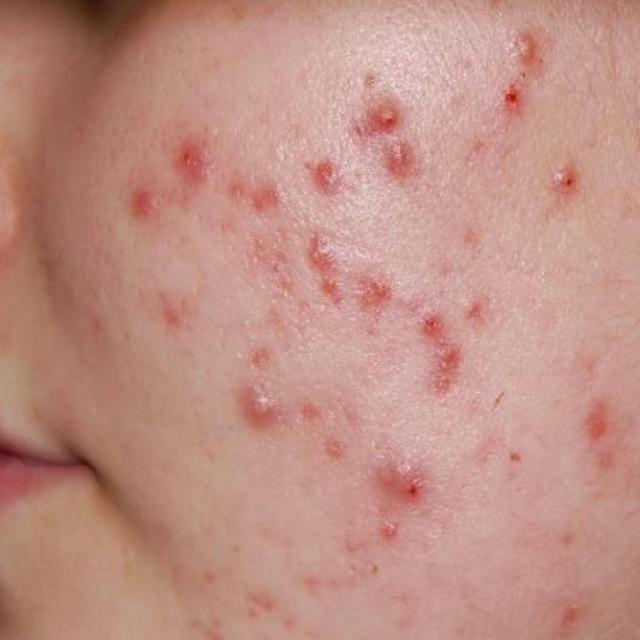8: (371, 128, 429, 192), (384, 453, 440, 515), (359, 91, 418, 140), (127, 177, 163, 246), (179, 132, 206, 189), (314, 169, 344, 214)
9: (220, 374, 310, 444), (499, 20, 558, 75)
blackheads: (415, 303, 470, 397), (572, 384, 628, 458), (234, 578, 288, 634), (247, 242, 290, 312)
